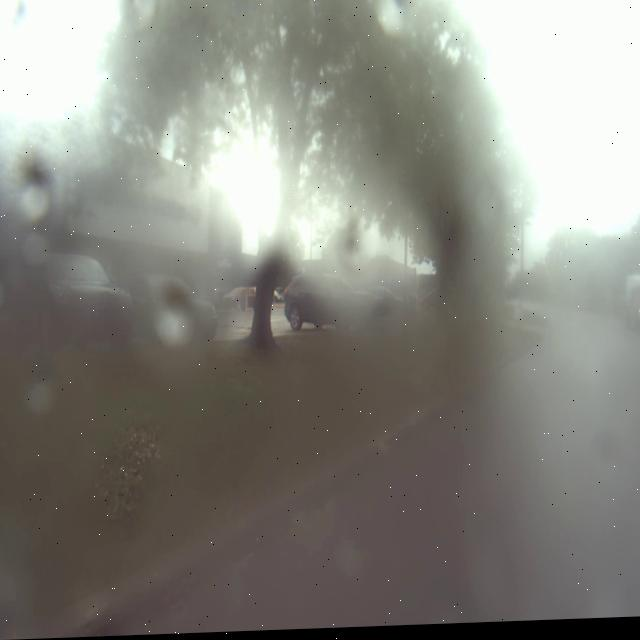car: (621, 276, 640, 340)
